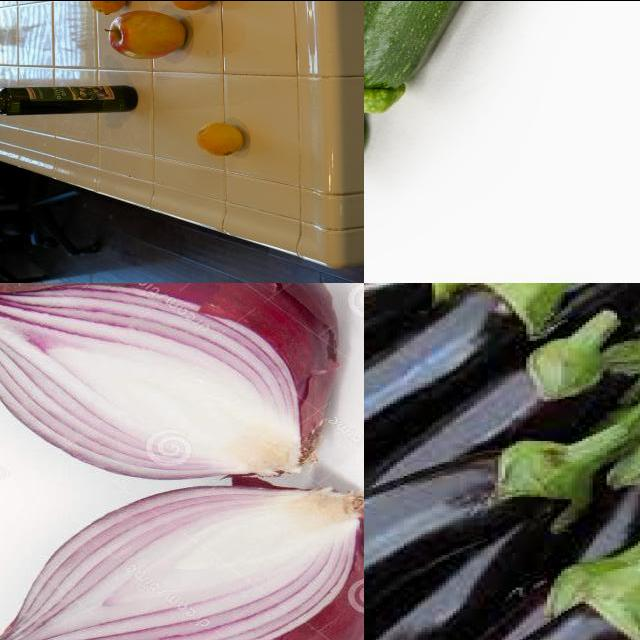eggplant: (365, 451, 579, 640), (365, 283, 537, 518)
onion: (1, 283, 347, 479), (1, 482, 365, 640)
